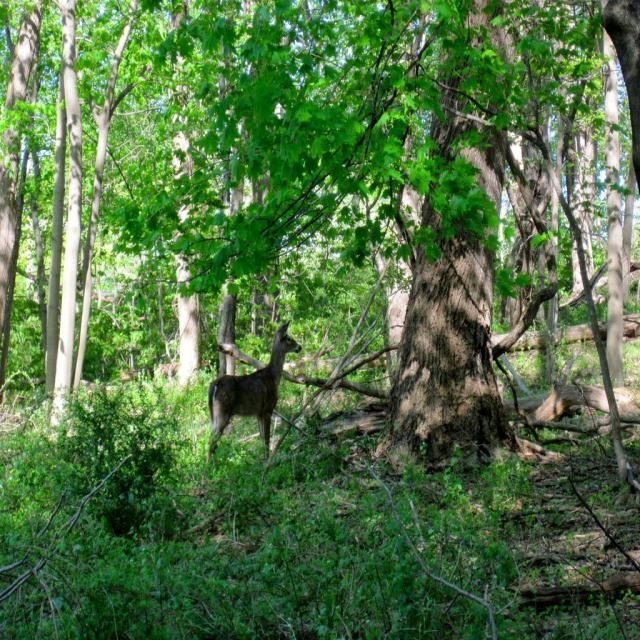Deer: (207, 319, 302, 461)
